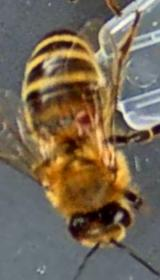varroa_mite: (69, 104, 105, 125)
